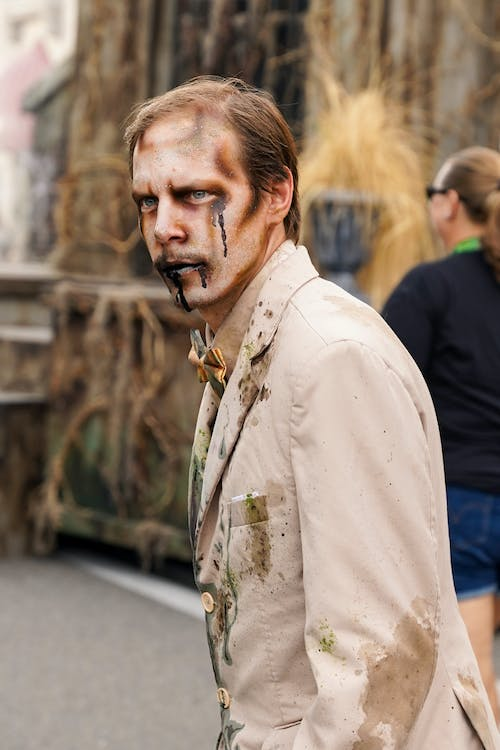blood: (135, 207, 232, 312)
